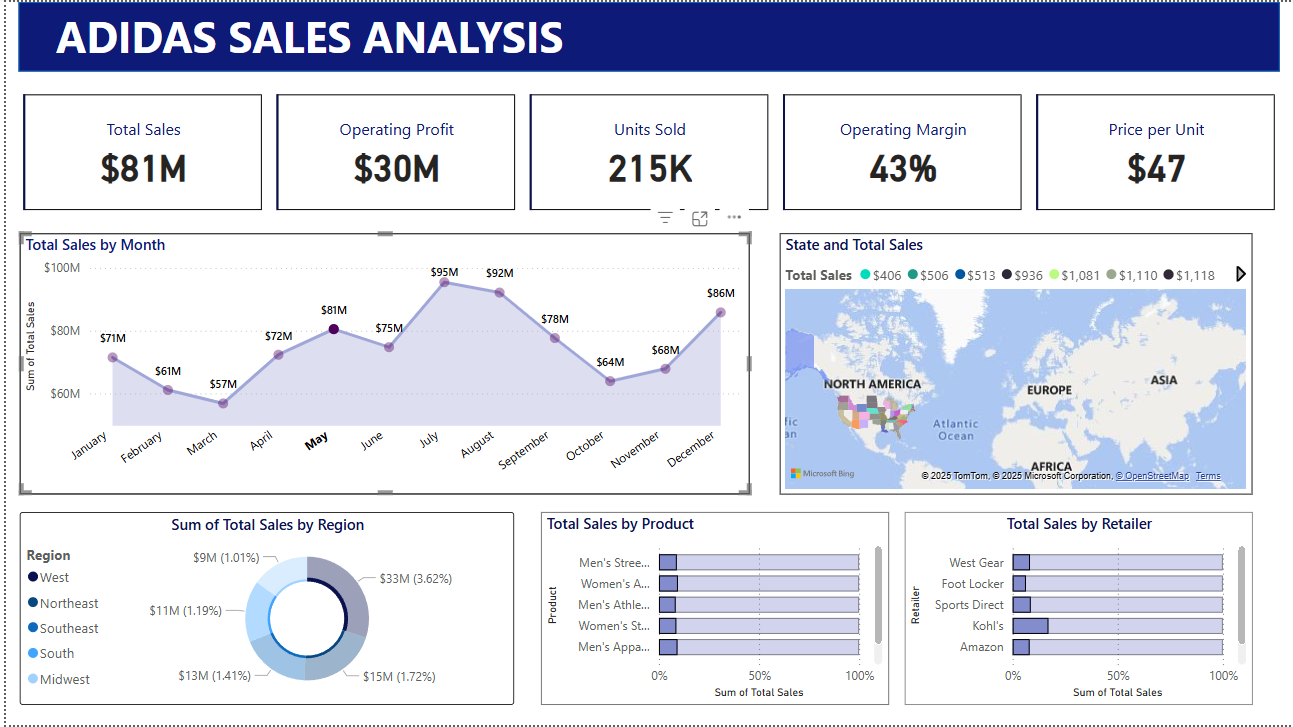

This screenshot's page, from the dashboard's own definition file:
{"tool":"powerbi","page":{"name":"Page 1","canvas":[1280,720],"ordinal":0},"visuals":[{"type":"shape","box":[12,0,1255.4,69.2],"z":0},{"type":"textbox","box":[45,0,1235,70],"z":1000},{"type":"cardVisual","fields":{"Data":["Sum(Data Sales Adidas.Total Sales)","Sum(Data Sales Adidas.Operating Profit)","Sum(Data Sales Adidas.Units Sold)","Avg(Data Sales Adidas.Operating Margin)","Avg(Data Sales Adidas.Price per Unit)"]},"box":[12.5,87.5,1255,125],"z":2000},{"type":"areaChart","title":"Total Sales by Month","fields":{"Category":["Data Sales Adidas.Invoice Date.Variation.Date Hierarchy.Month"],"Y":["Sum(Data Sales Adidas.Total Sales)"]},"box":[14,230,726,260],"z":3000},{"type":"filledMap","fields":{"Category":["Data Sales Adidas.State"],"Series":["Data Sales Adidas.Total Sales"]},"box":[770,230,470,260],"z":4000},{"type":"donutChart","fields":{"Y":["Sum(Data Sales Adidas.Total Sales)"],"Category":["Data Sales Adidas.Region"]},"box":[14,508,492,192],"z":4001},{"type":"hundredPercentStackedBarChart","title":"Total Sales by Product","fields":{"Category":["Data Sales Adidas.Product"],"Y":["Sum(Data Sales Adidas.Total Sales)"]},"box":[532,508,346,192],"z":4002},{"type":"hundredPercentStackedBarChart","title":"Total Sales by Retailer","fields":{"Y":["Sum(Data Sales Adidas.Total Sales)"],"Category":["Data Sales Adidas.Retailer"]},"box":[894,508,346,192],"z":4003}]}

Visuals, with their boxes in screenshot pixels (x1, y1, x2, y2), scaled from the page's 1280x720 canvas onto the 1293x727 screenshot:
shape: 12, 0, 1280, 70
textbox: 45, 0, 1292, 71
cardVisual - Sum(Data Sales Adidas.Total Sales) x Sum(Data Sales Adidas.Operating Profit): 13, 88, 1280, 215
"Total Sales by Month" areaChart: 14, 232, 748, 495
filledMap - Data Sales Adidas.State x Data Sales Adidas.Total Sales: 778, 232, 1253, 495
donutChart - Sum(Data Sales Adidas.Total Sales) x Data Sales Adidas.Region: 14, 513, 511, 707
"Total Sales by Product" hundredPercentStackedBarChart: 537, 513, 887, 707
"Total Sales by Retailer" hundredPercentStackedBarChart: 903, 513, 1253, 707
